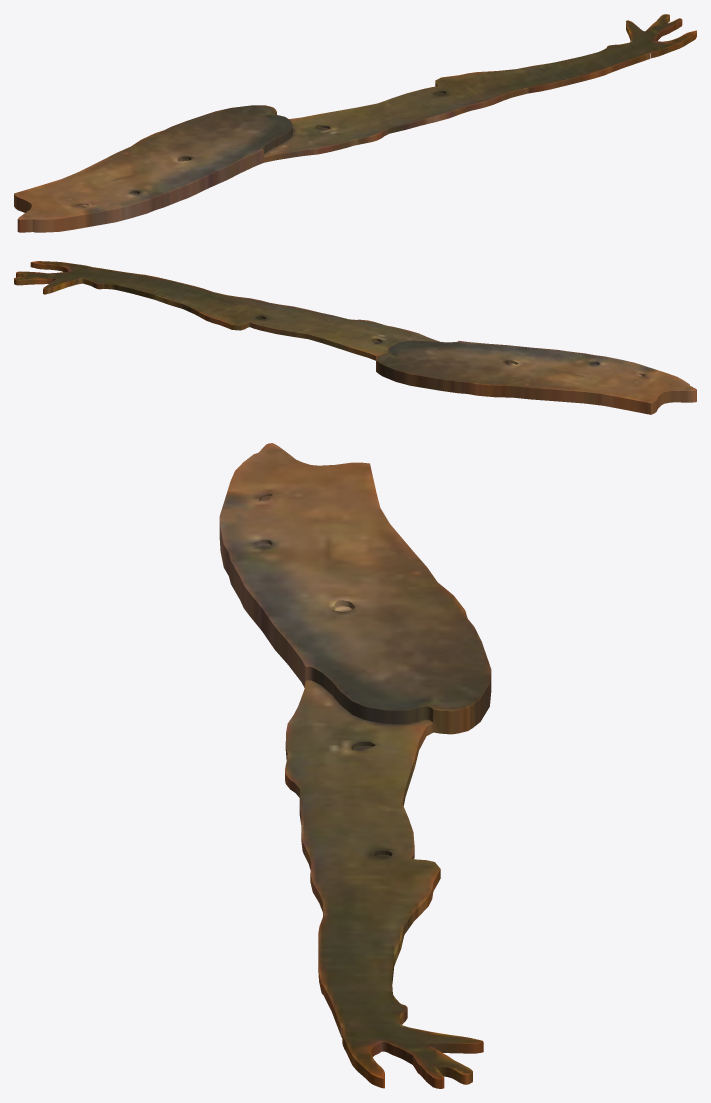
Rendered from Panama 6.dae.
3 renders of one model, top to bottom at view 1: azimuth 30°, elevation 25°; view 2: azimuth 150°, elevation 25°; view 3: azimuth 270°, elevation 25°, orthographic. The views are drawn at different scales.
Visible parts, largest first — view 1: SketchUp; view 2: SketchUp; view 3: SketchUp.
Boxes of the visible parts, left/top/right/bottom form: SketchUp: left=14, top=14, right=696, bottom=232; SketchUp: left=14, top=261, right=696, bottom=414; SketchUp: left=219, top=443, right=491, bottom=1088.
Size of the model in its own units: 43.39 by 7.99 by 0.75.
2 materials, 1 textured.
